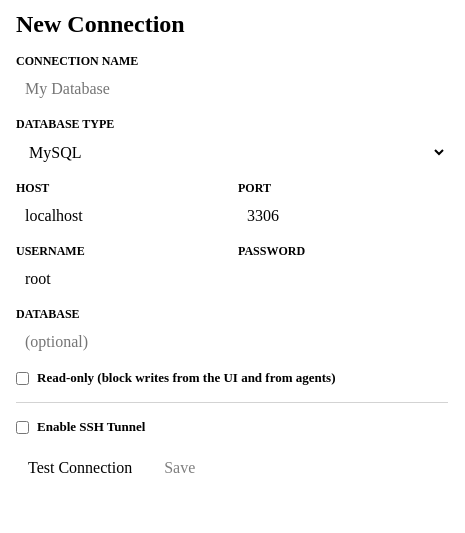
Test: ConnectionForm › 应该在修改字段后清除测试结果
Step 1. Click the button "Test Connection" → coordinates (80, 468), box [16,455,144,481]
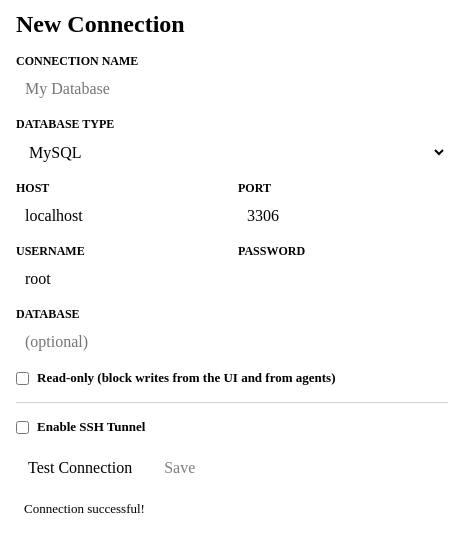
Result: the text "Connection successful!" is shown at [24,501,145,516]
Step 2. Type "new-host" into the field with placeholder "localhost" below "Host" → coordinates (121, 216), box [16,200,226,232]
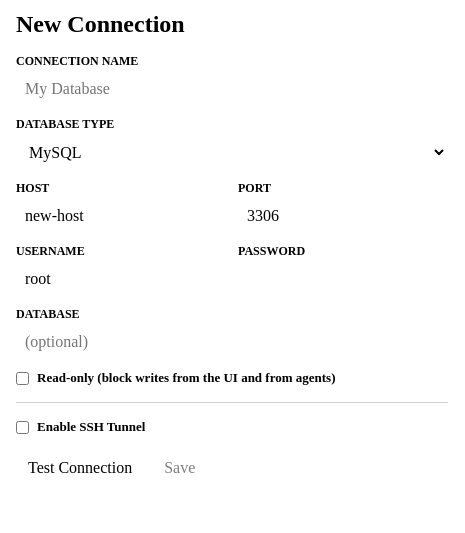
Result: the text "Connection successful!" is gone
